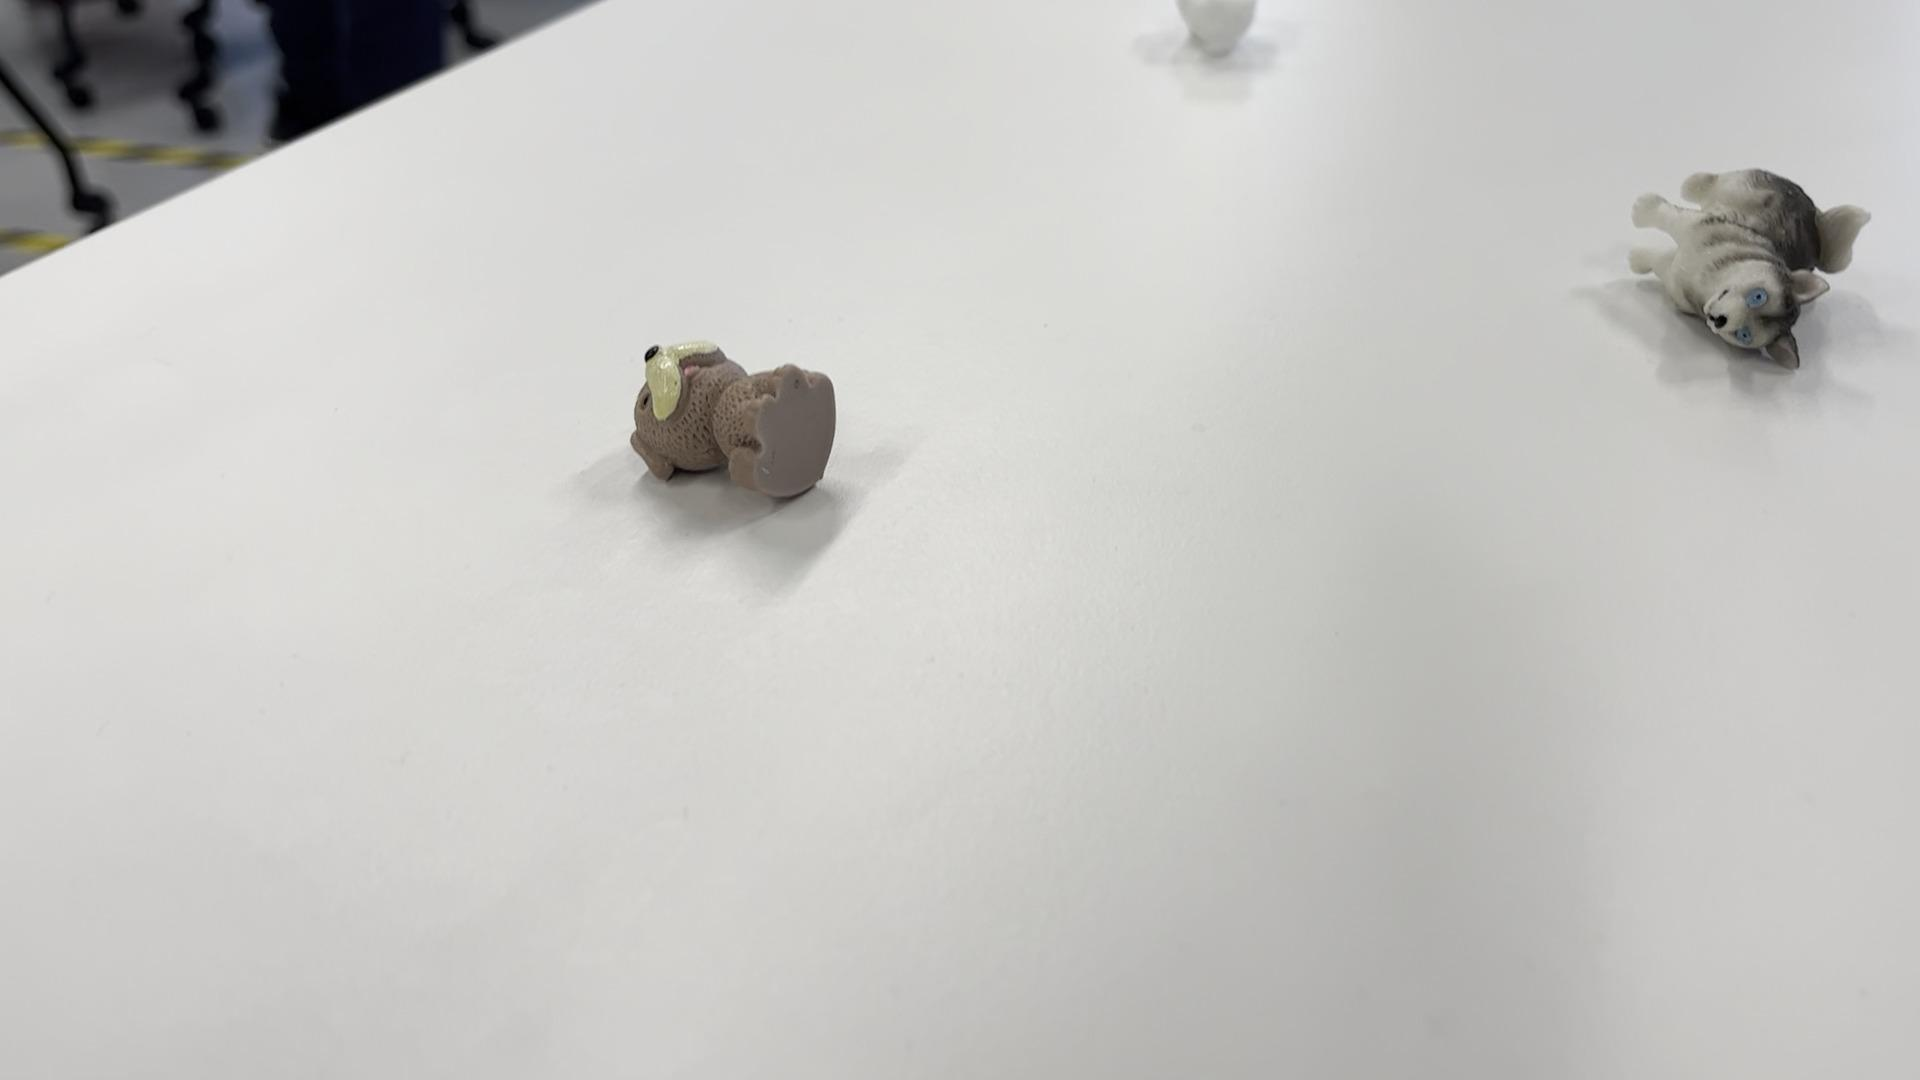pet: (1628, 149, 1882, 391), (628, 329, 847, 522)
